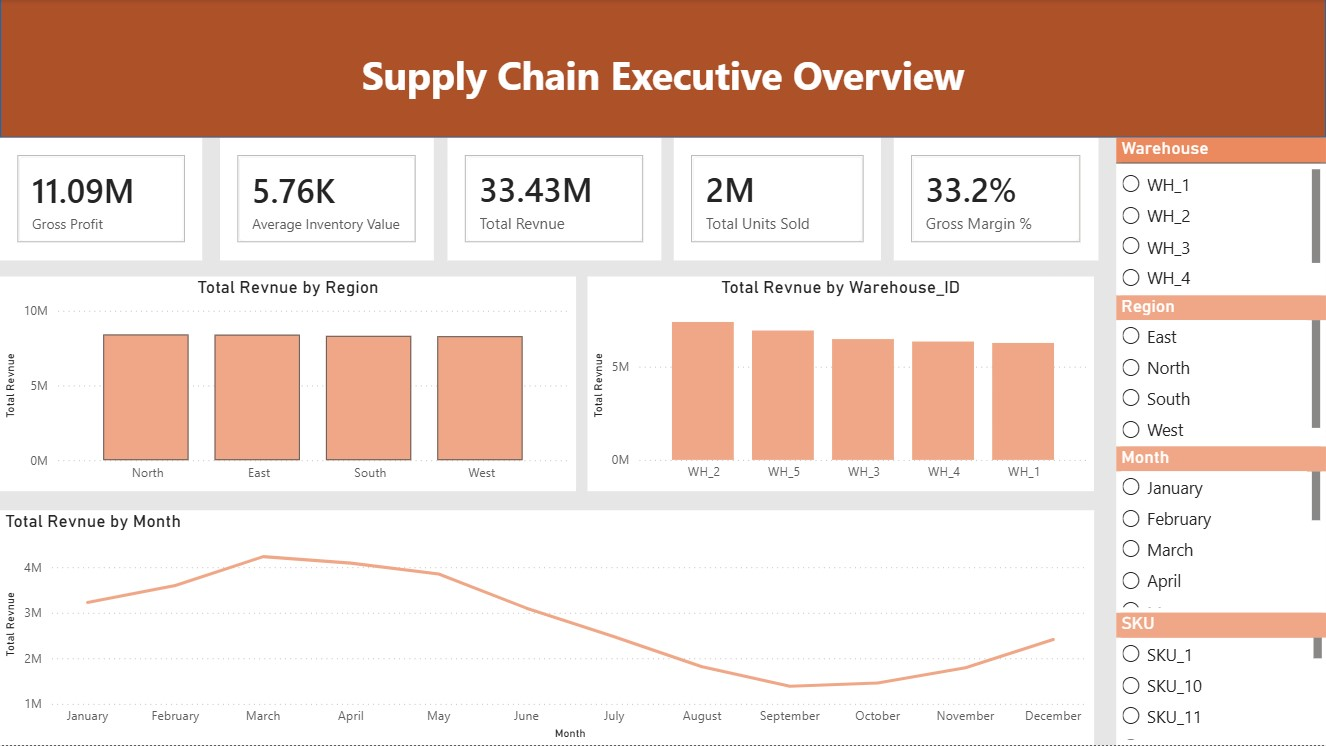

This screenshot's page, from the dashboard's own definition file:
{"tool":"powerbi","page":{"name":" Supply Chain Executive Overview","canvas":[1280,720],"ordinal":0},"visuals":[{"type":"cardVisual","fields":{"Data":["_Measures.Total Revnue"]},"box":[431.9,133.9,206.3,118.2],"z":0},{"type":"cardVisual","fields":{"Data":["_Measures.Total Units Sold"]},"box":[650.3,133.9,200.3,118.2],"z":1000},{"type":"cardVisual","fields":{"Data":["_Measures.Gross Profit"]},"box":[0,133.9,195.4,118.2],"z":2000},{"type":"cardVisual","fields":{"Data":["_Measures.Average Inventory Value"]},"box":[212.3,133.9,206.3,118.2],"z":3000},{"type":"cardVisual","fields":{"Data":["_Measures.Gross Margin %"]},"box":[862.6,133.9,197.9,118.2],"z":4000},{"type":"lineChart","fields":{"Category":["DimDate.Month"],"Y":["_Measures.Total Revnue"]},"box":[0,493.4,1055.6,226.8],"z":5000},{"type":"clusteredColumnChart","fields":{"Category":["DImRegion.Region"],"Y":["_Measures.Total Revnue"]},"box":[0,267.8,556.2,207.5],"z":6000},{"type":"clusteredColumnChart","fields":{"Category":["DImWarehouse.Warehouse_ID"],"Y":["_Measures.Total Revnue"]},"box":[566.7,267.6,488.5,207.2],"z":7000},{"type":"listSlicer","fields":{"Values":["DimDate.Month"]},"box":[1077.4,431.9,202.7,160.5],"z":8000},{"type":"listSlicer","fields":{"Values":["DImRegion.Region"]},"box":[1077.4,285.9,202.7,146],"z":9000},{"type":"listSlicer","title":"Warehouse","fields":{"Values":["DImWarehouse.Warehouse_ID"]},"box":[1077.4,133.9,202.7,152],"z":10000},{"type":"listSlicer","title":"SKU","fields":{"Values":["DimProduct.SKU_ID"]},"box":[1077.2,592.8,203.1,127.6],"z":11000},{"type":"shape","box":[0,0,1280,133.9],"z":12000},{"type":"textbox","box":[0,43.4,1280,61.5],"z":13000}]}

Visuals, with their boxes in screenshot pixels (x1, y1, x2, y2), scaled from the page's 1280x720 canvas onto the 1326x746 screenshot:
cardVisual - _Measures.Total Revnue: 447:139:661:261
cardVisual - _Measures.Total Units Sold: 674:139:881:261
cardVisual - _Measures.Gross Profit: 0:139:202:261
cardVisual - _Measures.Average Inventory Value: 220:139:434:261
cardVisual - _Measures.Gross Margin %: 894:139:1099:261
lineChart - DimDate.Month x _Measures.Total Revnue: 0:511:1094:745
clusteredColumnChart - DImRegion.Region x _Measures.Total Revnue: 0:277:576:492
clusteredColumnChart - DImWarehouse.Warehouse_ID x _Measures.Total Revnue: 587:277:1093:492
listSlicer - DimDate.Month: 1116:447:1325:614
listSlicer - DImRegion.Region: 1116:296:1325:447
"Warehouse" listSlicer: 1116:139:1325:296
"SKU" listSlicer: 1116:614:1325:745
shape: 0:0:1325:139
textbox: 0:45:1325:109
